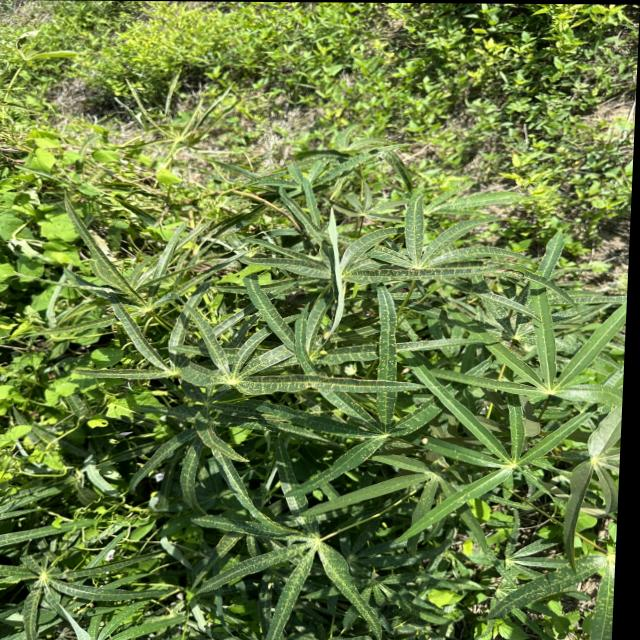Maleza: (0, 0, 381, 88), (347, 0, 568, 128), (494, 0, 619, 225), (0, 56, 200, 194), (0, 118, 63, 439), (35, 383, 164, 430)
Mosca: (405, 425, 438, 460), (78, 597, 100, 616), (313, 343, 336, 361)
